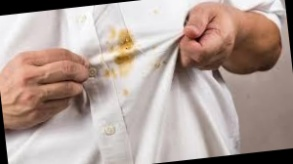oil: (97, 18, 144, 78), (147, 45, 168, 72), (117, 86, 131, 97), (150, 9, 162, 20)
